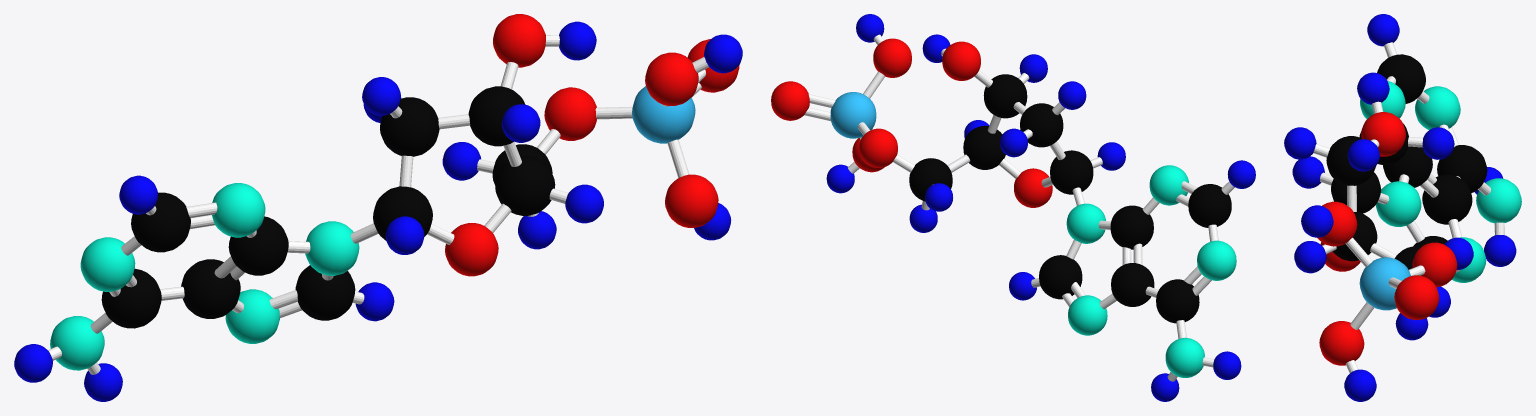
The model's file is desoxiadenosina.obj.
The picture shows the model from 3 angles, left to right: view 1: azimuth 30°, elevation 25°; view 2: azimuth 150°, elevation 25°; view 3: azimuth 270°, elevation 25°; orthographic projection. The views are drawn at different scales.
Visible parts, largest first — view 1: carbono.002_Shape_Sphere.008, carbono.004_Shape_Sphere.010, carbono.008_Shape_Sphere.024, carbono_Shape_Sphere.028, carbono.006_Shape_Sphere.020, carbono.007_Shape_Sphere.021, fosforo_Shape_Sphere.001, carbono.009_Shape_Sphere.026, nitrogenio.003_Shape_Sphere.025, nitrogenio.004_Shape_Sphere.027, oxigenio.002_Shape_Sphere.003, oxigenio.004_Shape_Sphere.006 (+23 smaller); view 2: fosforo_Shape_Sphere.001, carbono_Shape_Sphere.028, carbono.009_Shape_Sphere.026, carbono.007_Shape_Sphere.021, carbono.008_Shape_Sphere.024, carbono.005_Shape_Sphere.011, carbono.003_Shape_Sphere.009, carbono.006_Shape_Sphere.020, carbono.004_Shape_Sphere.010, carbono.002_Shape_Sphere.008, nitrogenio.004_Shape_Sphere.027, nitrogenio_Shape_Sphere.030 (+22 smaller); view 3: carbono.008_Shape_Sphere.024, fosforo_Shape_Sphere.001, oxigenio.001_Shape_Sphere.002, nitrogenio_Shape_Sphere.030, oxigenio.002_Shape_Sphere.003, nitrogenio.001_Shape_Sphere.018, nitrogenio.004_Shape_Sphere.027, carbono.009_Shape_Sphere.026, carbono_Shape_Sphere.028, oxigenio_Shape_Sphere.015, oxigenio.003_Shape_Sphere.005, carbono.003_Shape_Sphere.009 (+22 smaller).
Part boxes in pixels (box(x1,y1,x2,y2)): carbono.002_Shape_Sphere.008: box(495, 156, 555, 215); carbono.004_Shape_Sphere.010: box(380, 97, 439, 156); carbono.008_Shape_Sphere.024: box(181, 259, 240, 318); carbono_Shape_Sphere.028: box(131, 192, 190, 252); carbono.006_Shape_Sphere.020: box(295, 265, 355, 320); carbono.007_Shape_Sphere.021: box(228, 216, 288, 275); fosforo_Shape_Sphere.001: box(632, 86, 695, 143); carbono.009_Shape_Sphere.026: box(101, 268, 161, 328); nitrogenio.003_Shape_Sphere.025: box(212, 183, 265, 237); nitrogenio.004_Shape_Sphere.027: box(80, 237, 135, 291); oxigenio.002_Shape_Sphere.003: box(665, 174, 718, 227); oxigenio.004_Shape_Sphere.006: box(645, 52, 698, 105); fosforo_Shape_Sphere.001: box(830, 92, 876, 138); carbono_Shape_Sphere.028: box(1188, 184, 1231, 227); carbono.009_Shape_Sphere.026: box(1156, 279, 1199, 323); carbono.007_Shape_Sphere.021: box(1110, 205, 1153, 249); carbono.008_Shape_Sphere.024: box(1111, 263, 1154, 306); carbono.005_Shape_Sphere.011: box(1050, 150, 1093, 194); carbono.003_Shape_Sphere.009: box(983, 74, 1027, 118); carbono.006_Shape_Sphere.020: box(1039, 255, 1082, 299); carbono.004_Shape_Sphere.010: box(1020, 103, 1063, 147); carbono.002_Shape_Sphere.008: box(963, 125, 1005, 169); nitrogenio.004_Shape_Sphere.027: box(1197, 240, 1236, 280); nitrogenio_Shape_Sphere.030: box(1165, 337, 1204, 377); carbono.008_Shape_Sphere.024: box(1422, 174, 1472, 224); fosforo_Shape_Sphere.001: box(1359, 257, 1410, 310); oxigenio.001_Shape_Sphere.002: box(1394, 275, 1439, 320); nitrogenio_Shape_Sphere.030: box(1476, 178, 1521, 223); oxigenio.002_Shape_Sphere.003: box(1319, 321, 1364, 365); nitrogenio.001_Shape_Sphere.018: box(1376, 181, 1421, 226); nitrogenio.004_Shape_Sphere.027: box(1415, 86, 1460, 129); carbono.009_Shape_Sphere.026: box(1437, 145, 1487, 193); carbono_Shape_Sphere.028: box(1377, 54, 1425, 103); oxigenio_Shape_Sphere.015: box(1361, 112, 1405, 156); oxigenio.003_Shape_Sphere.005: box(1412, 242, 1457, 287); carbono.003_Shape_Sphere.009: box(1326, 136, 1375, 185).
Size of the model in its own units: 13.23 by 6.55 by 4.82.
